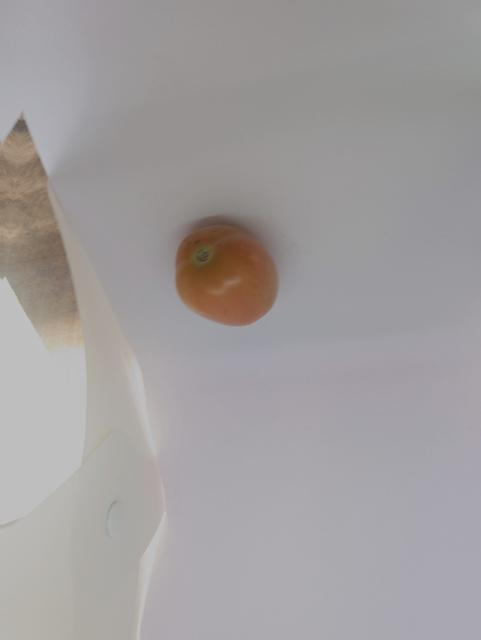turning: (163, 216, 296, 333)
